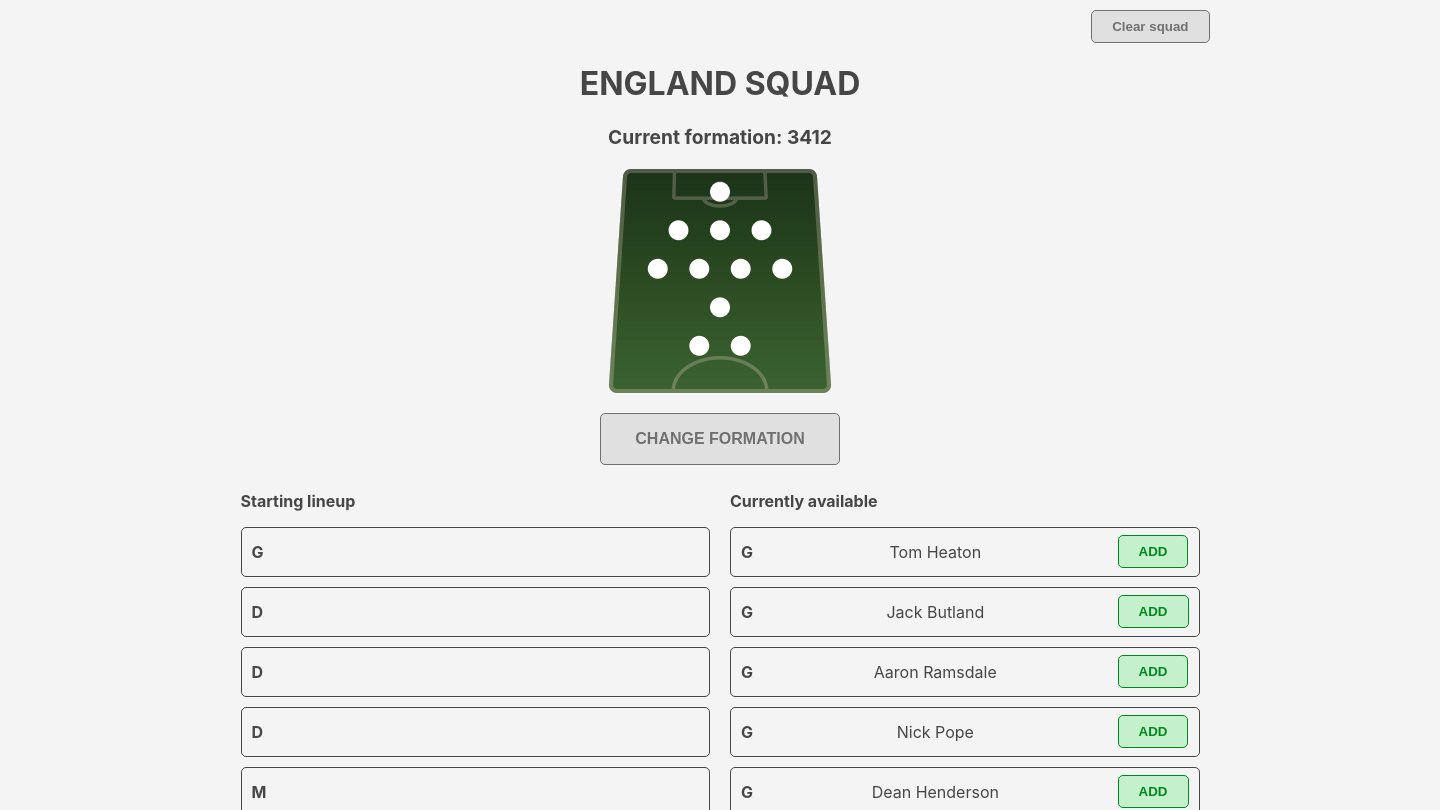
Test: pressing 'change formation' button displays 'formation' overlay
The image size is (1440, 810).
Click the button "CHANGE FORMATION" at (720, 439), box [600, 413, 840, 465]
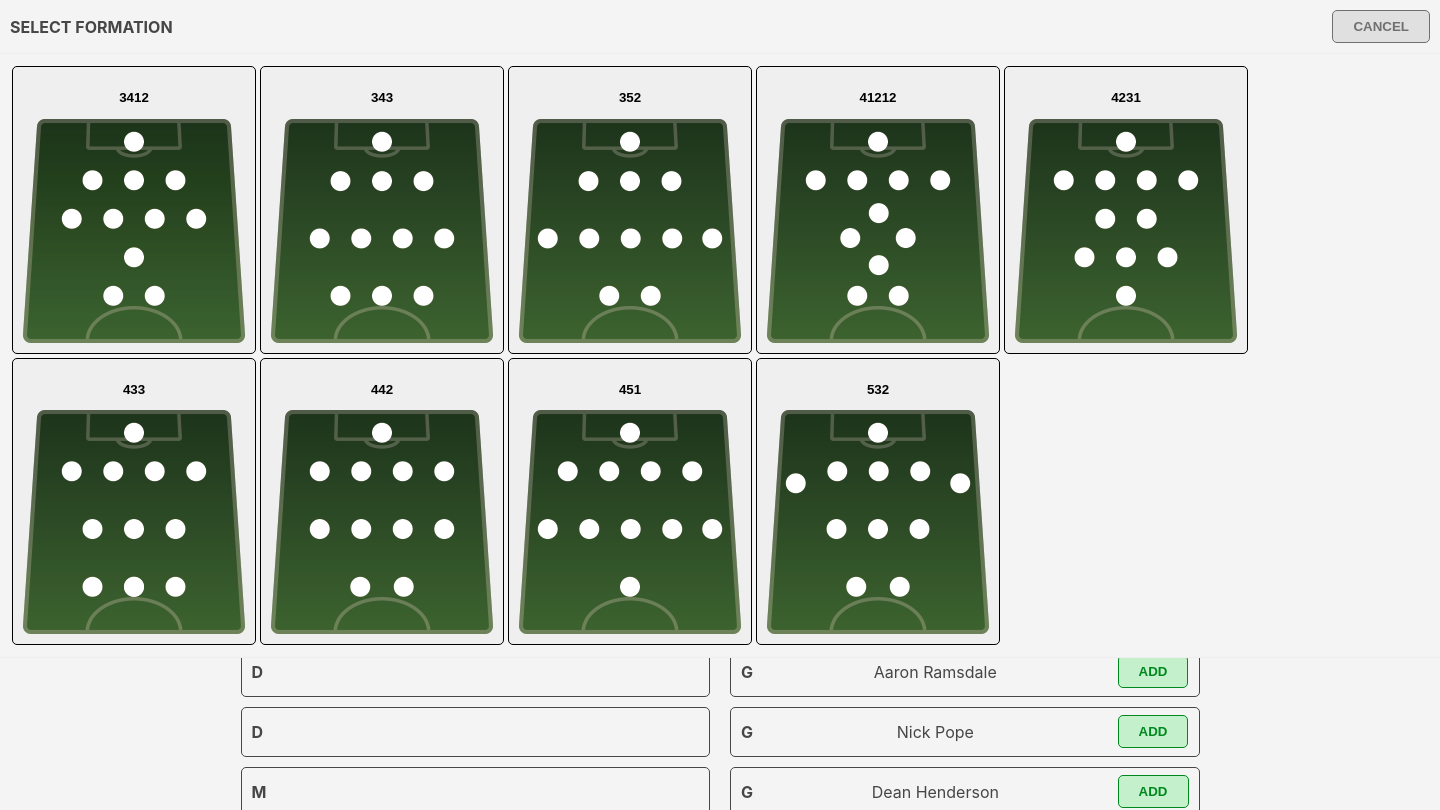
expect the heading "SELECT FORMATION" is shown: met, box [10, 16, 173, 36]
